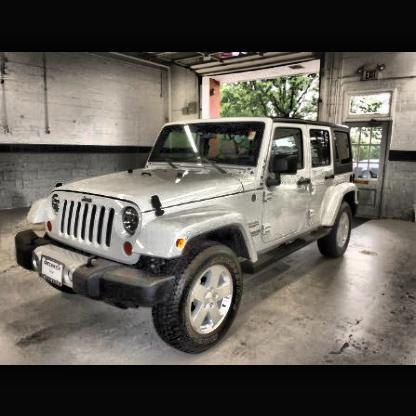Jeep Wrangler SUV 2012: (7, 107, 363, 357)
